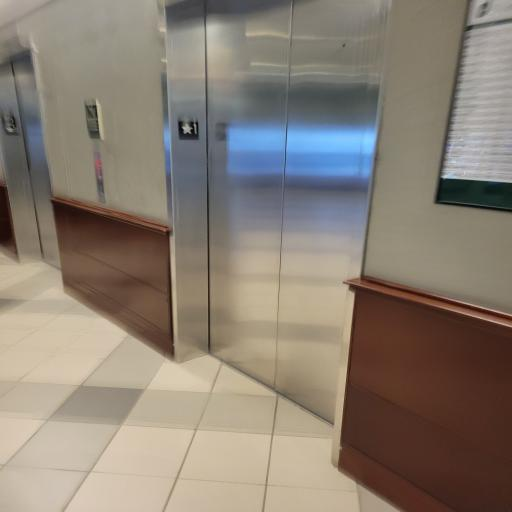elevator buttons: (89, 150, 116, 208)
elevator doors: (165, 0, 397, 427), (0, 47, 63, 265)
